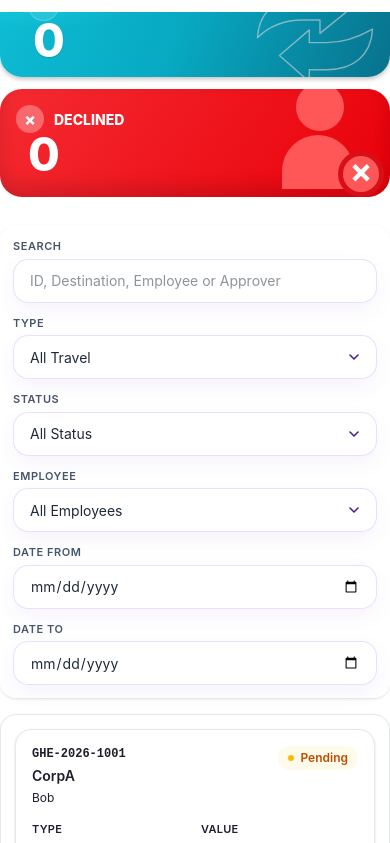
Test: MyDeclarationsScreen › filters by status
(page scrolled)
Expected: the text "GHE-2026-1001" is shown, [32,746,126,762]
Select "Approved" in the dropdown below "Status" at {"x": 195, "y": 434}, box [13,412,377,456]
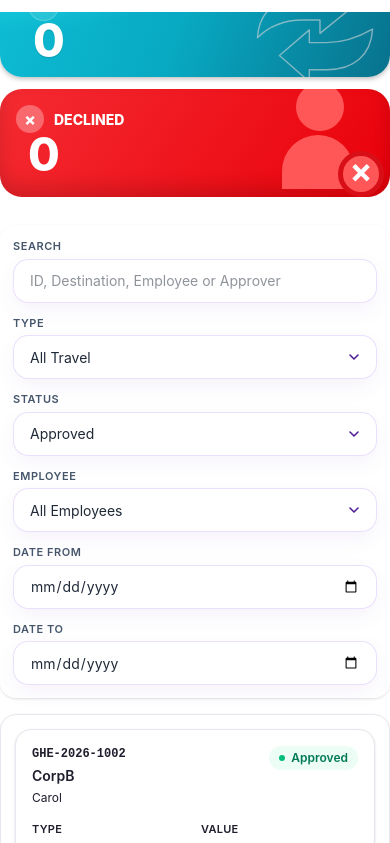
Result: the text "GHE-2026-1002" is shown at [32,746,126,762]
